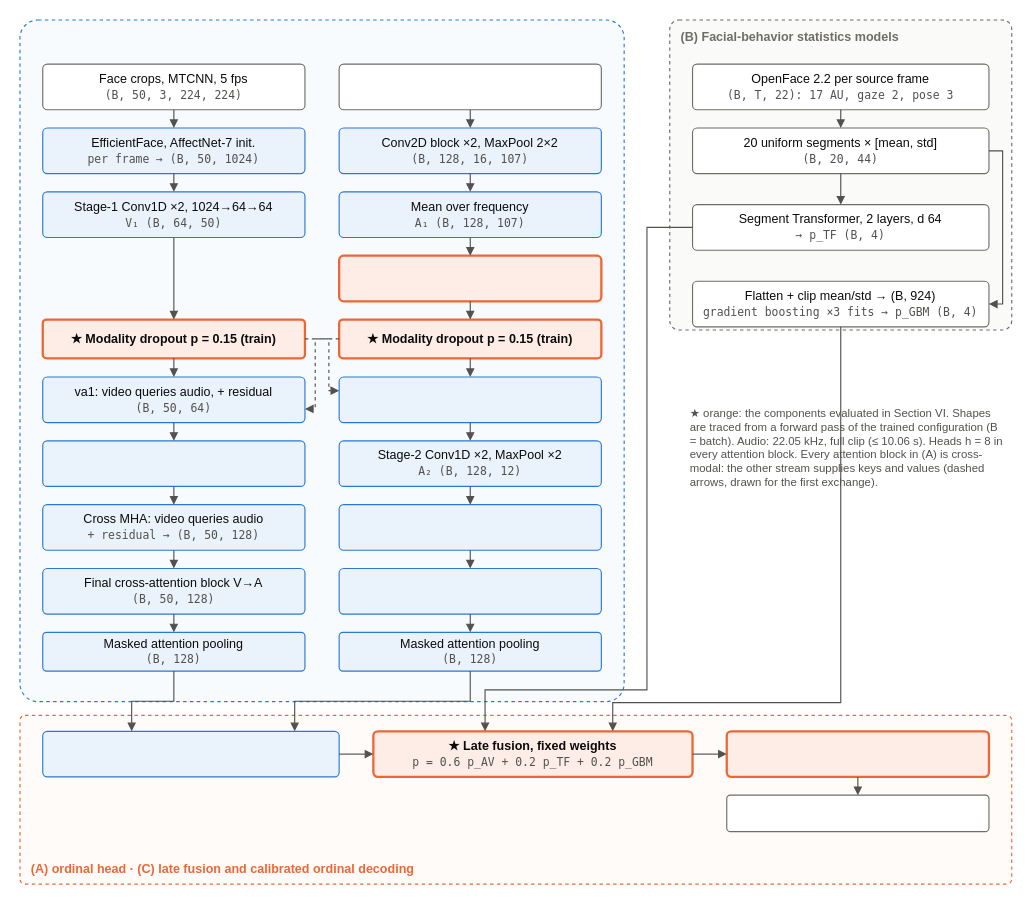
This 1032x904 diagram has some shape labels left out. Here are the shapes that lost their labels. From the top down, the box of each, then its label:
(338, 63, 601, 110): Log-mel spectrogram, 64 bins (B, 64, 431)
(337, 254, 602, 302): ★ Per-sample adaptive alignment Ã₁ (B, 128, 50)
(19, 19, 624, 702): (A) Audio-visual cross-attention network
(338, 376, 601, 423): av1: audio queries video, + residual (B, 50, 128)
(42, 440, 305, 486): Stage-2 Conv1D ×2, 64→128→128 V₂ (B, 128, 50)
(338, 504, 601, 550): Cross MHA: audio queries video + residual → (B, 12, 128)
(338, 567, 601, 614): Final cross-attention block A→V (B, 12, 128)
(42, 730, 339, 777): Concatenate z → Linear 256→4, softmax z (B, 256) → p_AV (B, 4)
(725, 730, 990, 777): ★ Expected level μ = Σ k·p_k cut by τ₁<τ₂<τ₃ (fit on val.)
(726, 794, 989, 832): Engagement level ŷ ∈ {0, 1, 2, 3}
